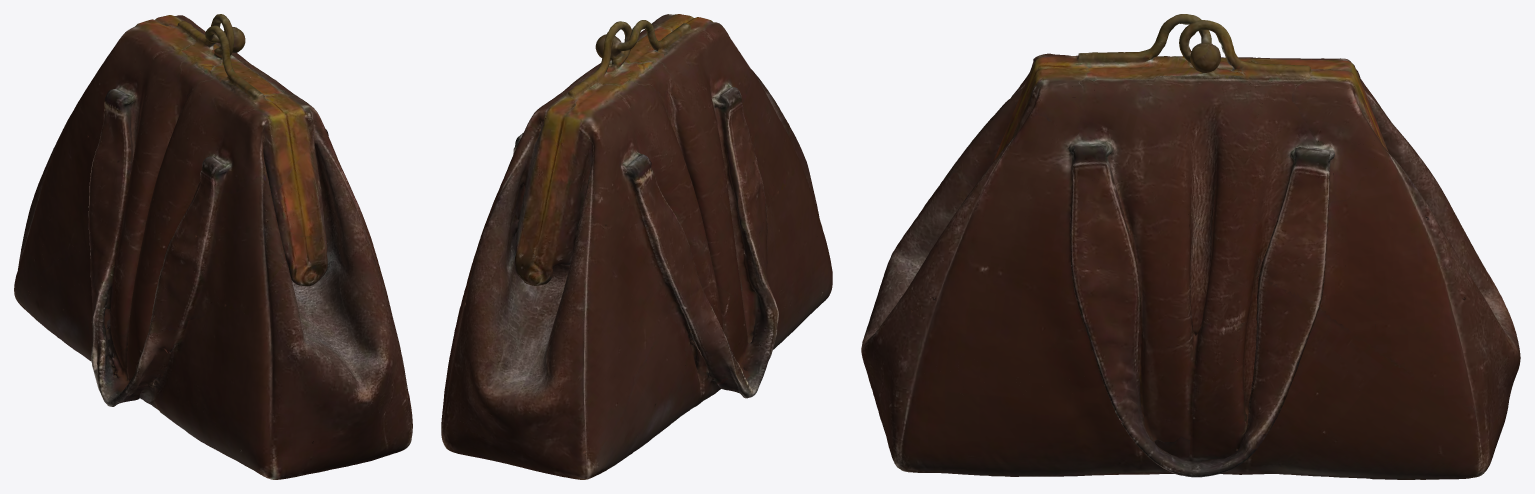
Rendered from item_handbag.glb.
3 renders of one model, left to right at view 1: azimuth 30°, elevation 25°; view 2: azimuth 150°, elevation 25°; view 3: azimuth 270°, elevation 25°, orthographic. The views are drawn at different scales.
Visible parts, largest first — view 1: Object_2, Object_3; view 2: Object_2, Object_3; view 3: Object_2, Object_3.
Part boxes in pixels (x1=…): Object_2: x1=14, y1=14, x2=412, y2=479; Object_3: x1=14, y1=16, x2=411, y2=477; Object_2: x1=441, y1=14, x2=832, y2=479; Object_3: x1=453, y1=17, x2=830, y2=479; Object_2: x1=861, y1=14, x2=1520, y2=479; Object_3: x1=867, y1=15, x2=1510, y2=479.
Bounding box in the file's own units: 2.98 × 4.36 × 6.08.
Materials: 1 (1 with a texture image).
